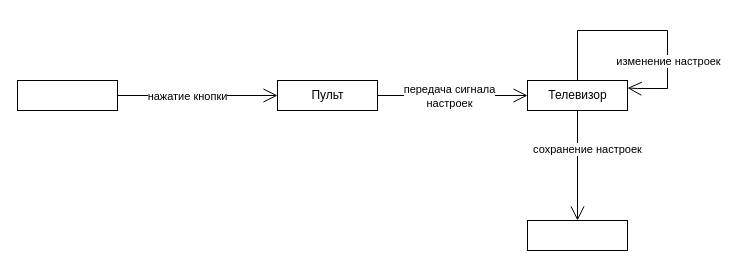
The diagram is 737 pixels wide and 268 high, and some of its shapes have lost their labels. Here are the shapes that lost their labels. From the top down, the box of each, then its label:
(16, 80, 118, 110): Пользователь
(526, 220, 628, 250): Память
